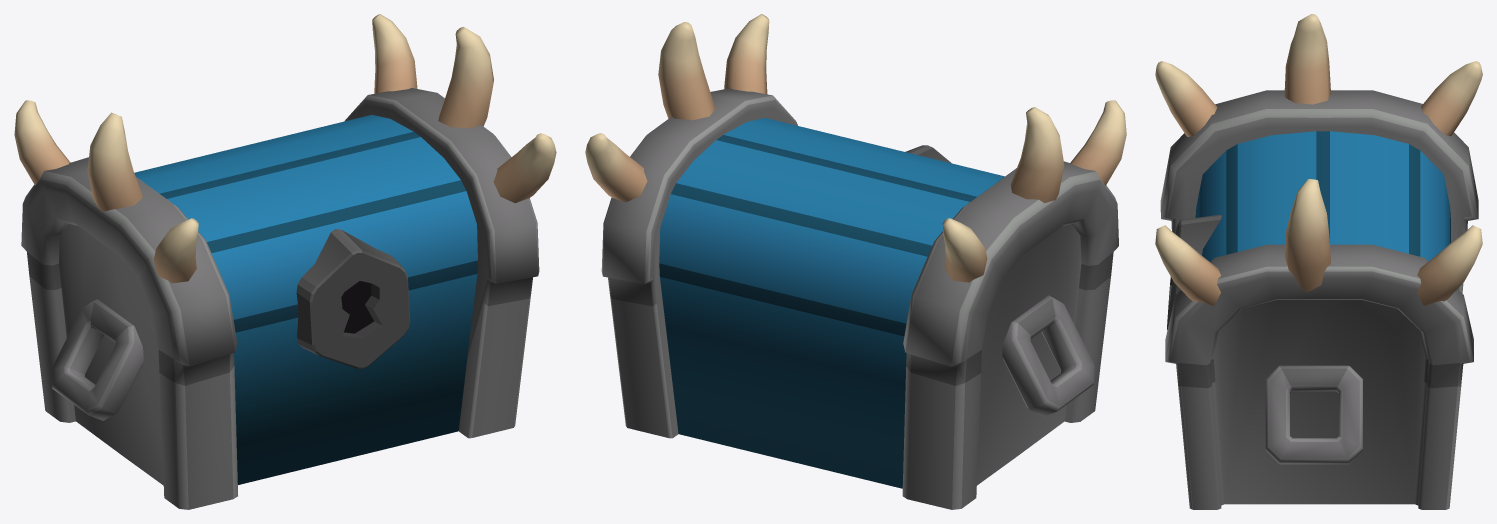
File: Chest_2.fbx
The picture shows the model from 3 angles, left to right: view 1: azimuth 30°, elevation 25°; view 2: azimuth 150°, elevation 25°; view 3: azimuth 270°, elevation 25°; orthographic projection. The views are drawn at different scales.
Visible parts, largest first — view 1: Chest_2; view 2: Chest_2; view 3: Chest_2.
Boxes of the visible parts, x1,y1,x2,y2 form: Chest_2: (14, 14, 556, 509); Chest_2: (585, 14, 1126, 509); Chest_2: (1155, 14, 1482, 509).
Bounding box in the file's own units: 143 × 112 × 99.08.
